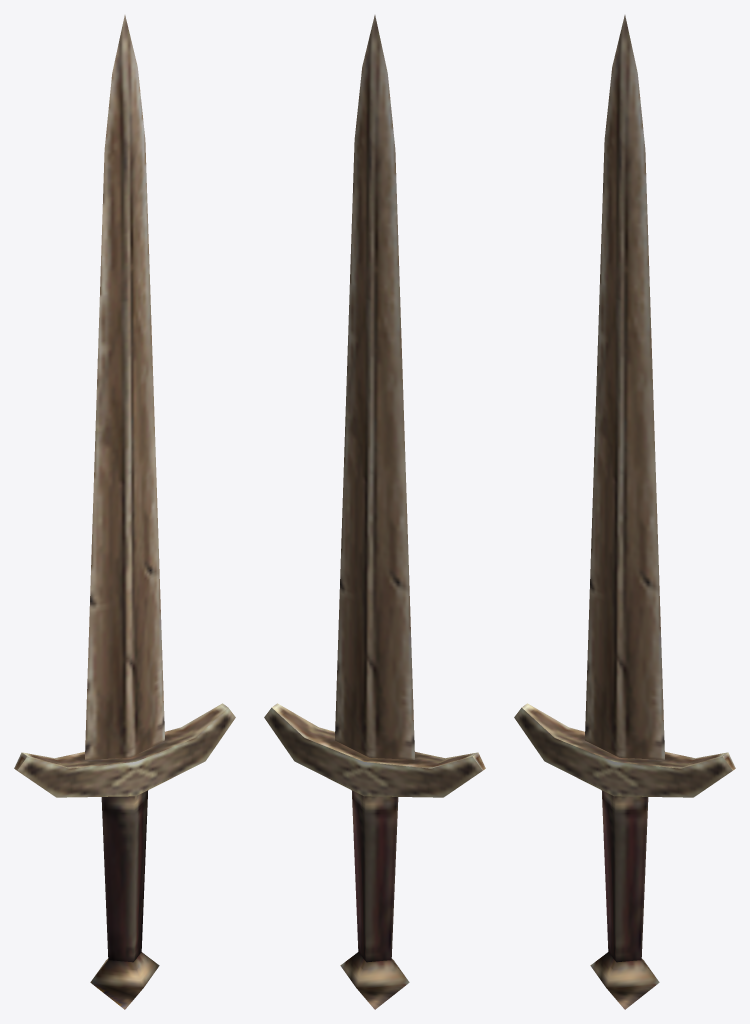
Rendered from Sword03.FBX.
The picture shows the model from 3 angles, left to right: view 1: azimuth 30°, elevation 25°; view 2: azimuth 150°, elevation 25°; view 3: azimuth 330°, elevation 25°; orthographic projection.
Visible parts, largest first — view 1: Sword03; view 2: Sword03; view 3: Sword03.
Part boxes in pixels (<box>): Sword03: <box>14,15,235,1009</box>; Sword03: <box>264,15,485,1009</box>; Sword03: <box>514,15,735,1009</box>.
Bounding box in the file's own units: 22.35 × 97.24 × 6.66.
